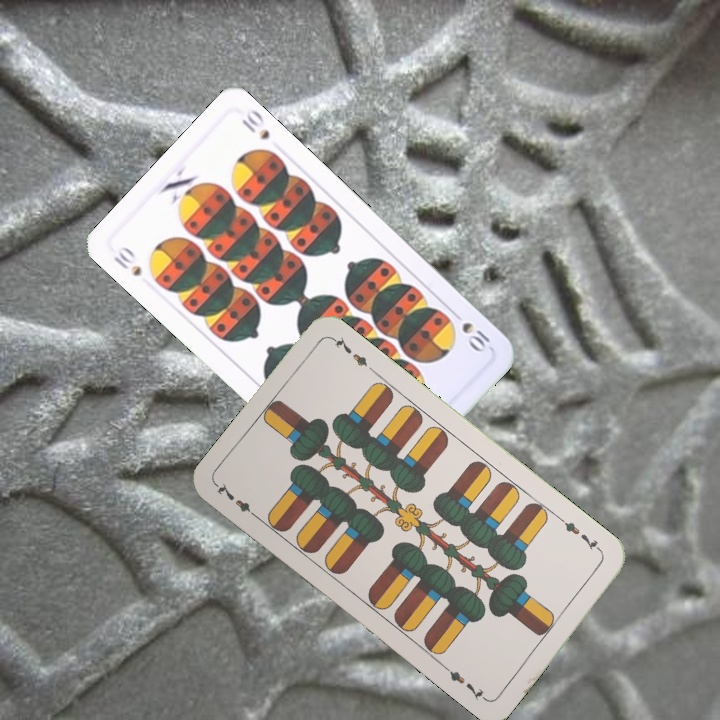E7: (212, 478, 262, 522), (556, 514, 606, 557)
S10: (443, 306, 494, 356), (109, 242, 145, 279)
